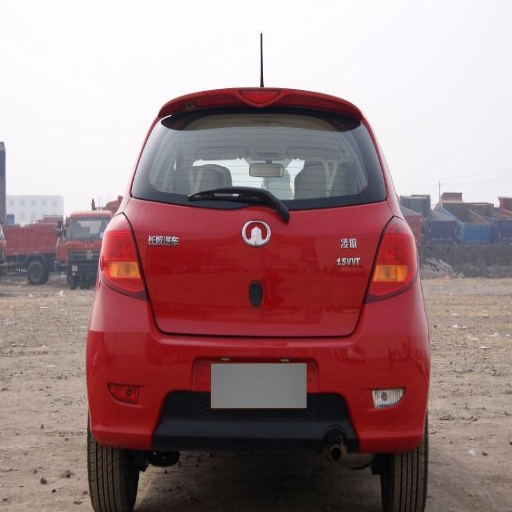back_bumper: (90, 275, 432, 449)
back_right_light: (370, 224, 416, 298)
trunk: (126, 198, 391, 333)
